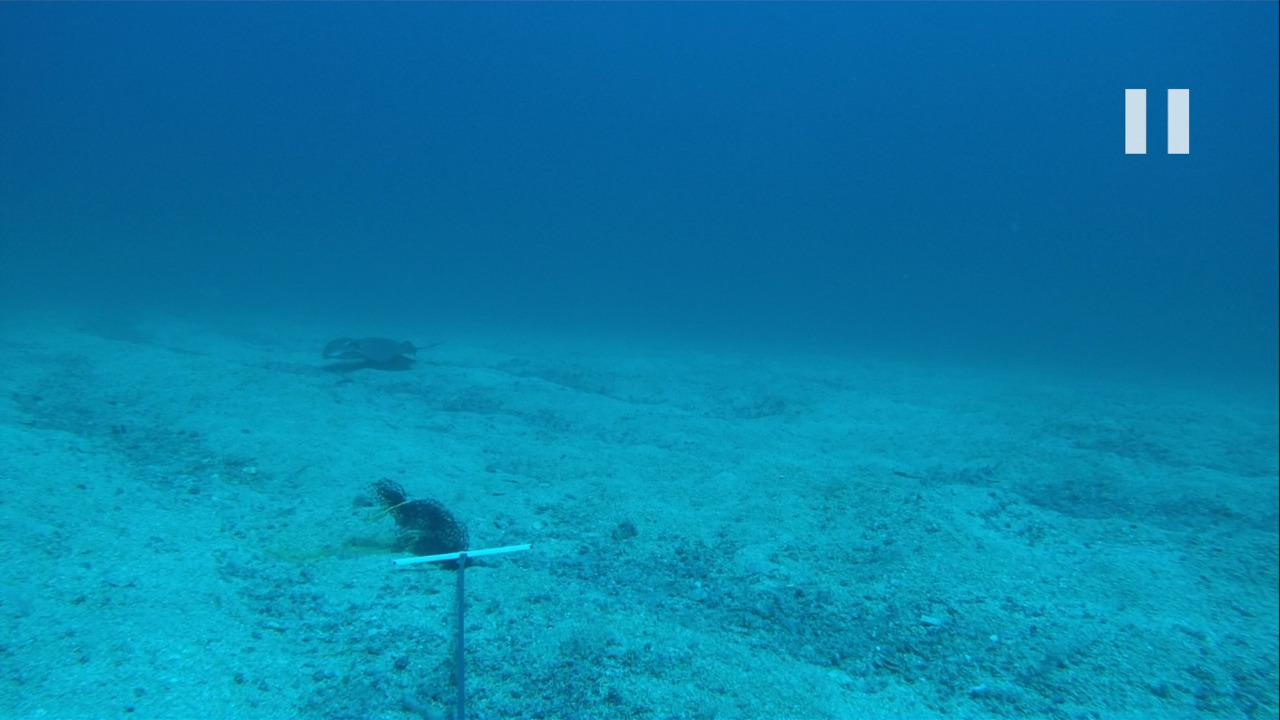myliobatis: (311, 324, 448, 375)
